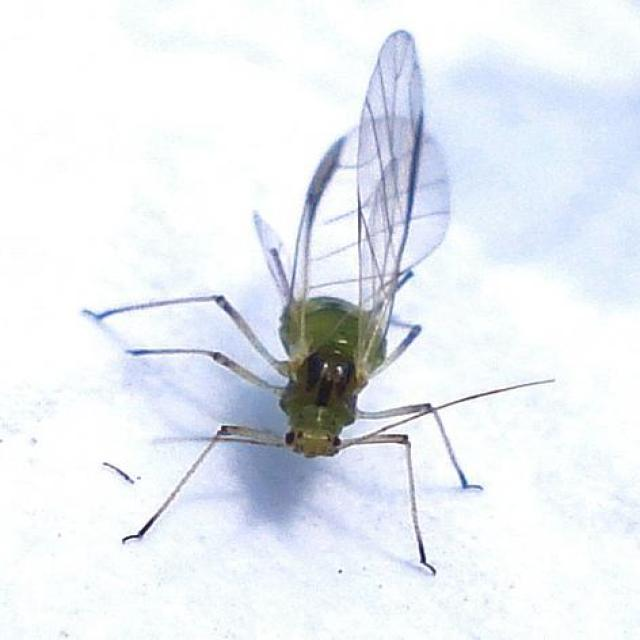Aphids: (93, 77, 545, 591)
